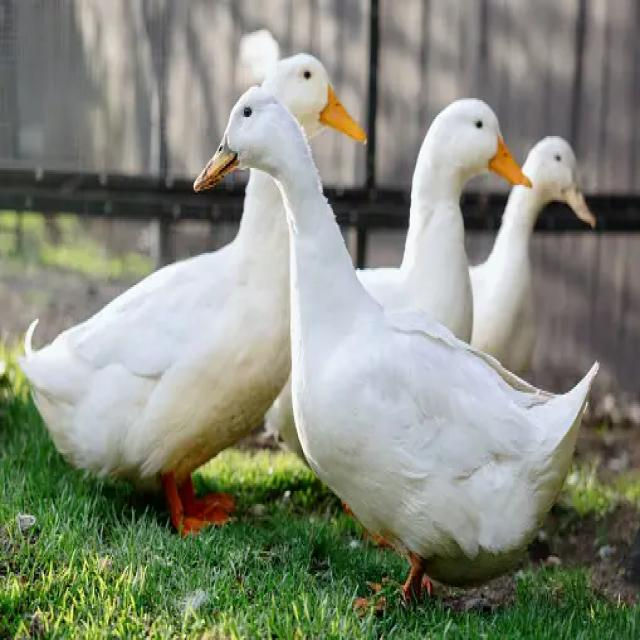ducks: (212, 62, 578, 595), (31, 13, 366, 589), (298, 36, 518, 464), (350, 124, 618, 394)
